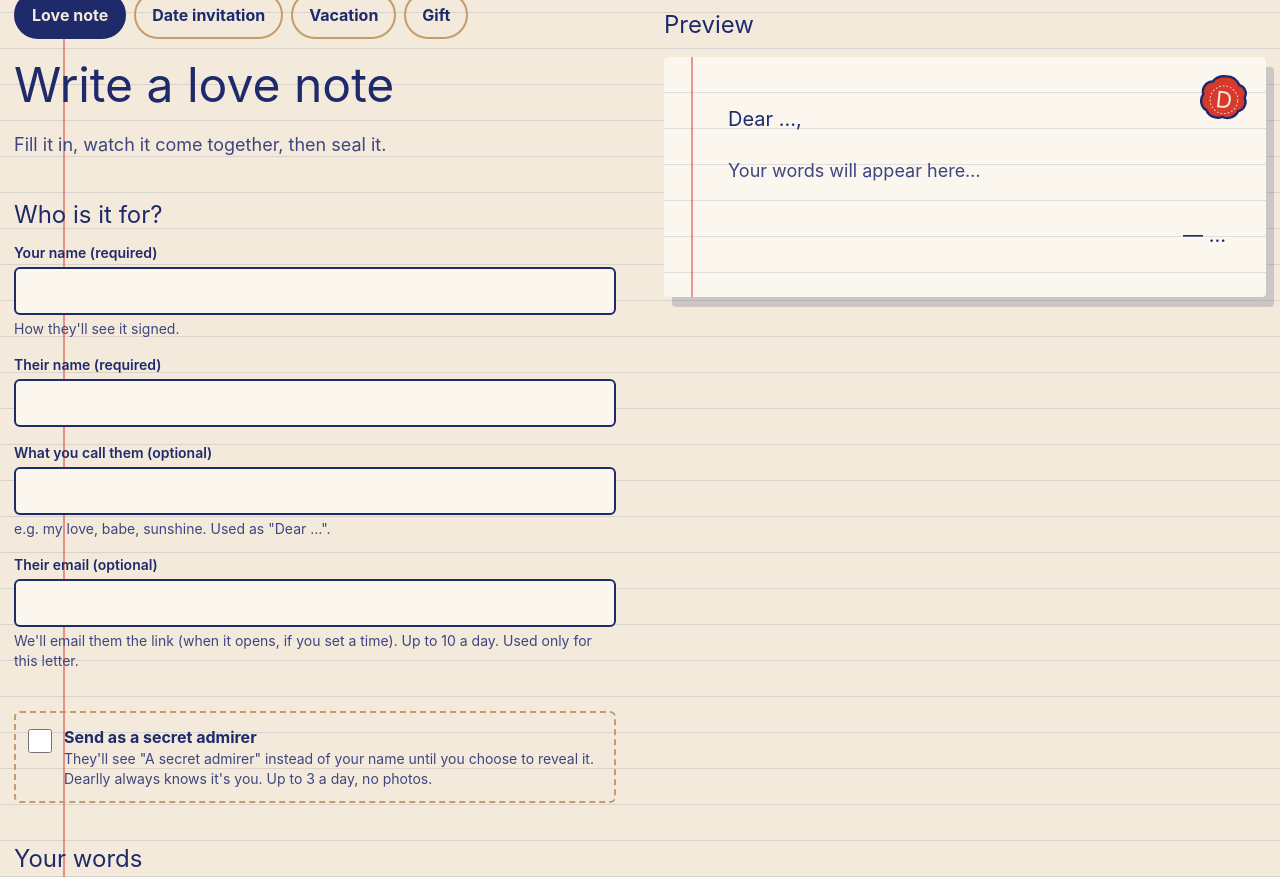
WriteLetter › fills the letter from a quote and shows it in the preview
The image size is (1280, 877).
Type "Ada" into the field labelled "Your name (required) How they'll see it signed." at (315, 291), box [14, 267, 616, 315]
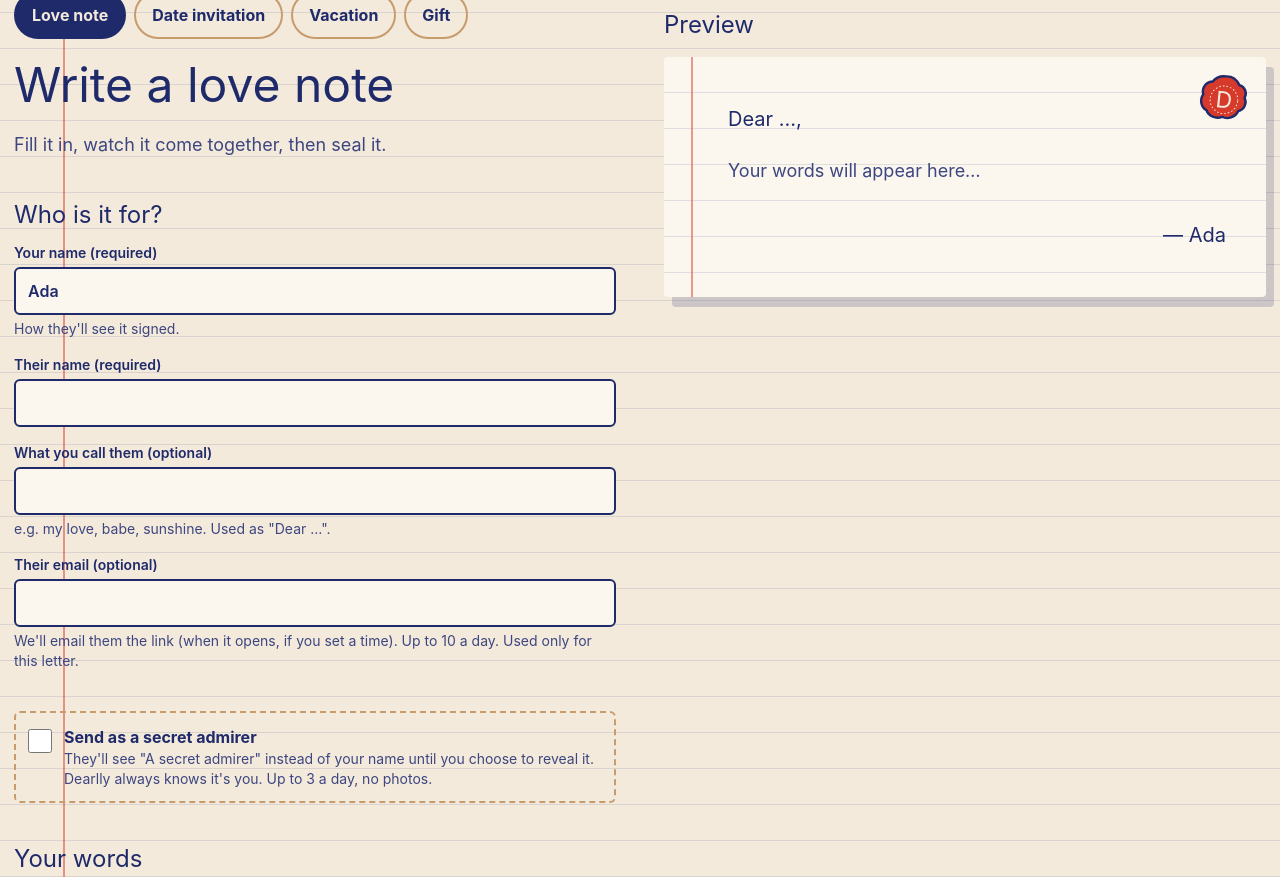
Type "Tolu" into the field labelled "Their name (required)" at (315, 403), box [14, 379, 616, 427]
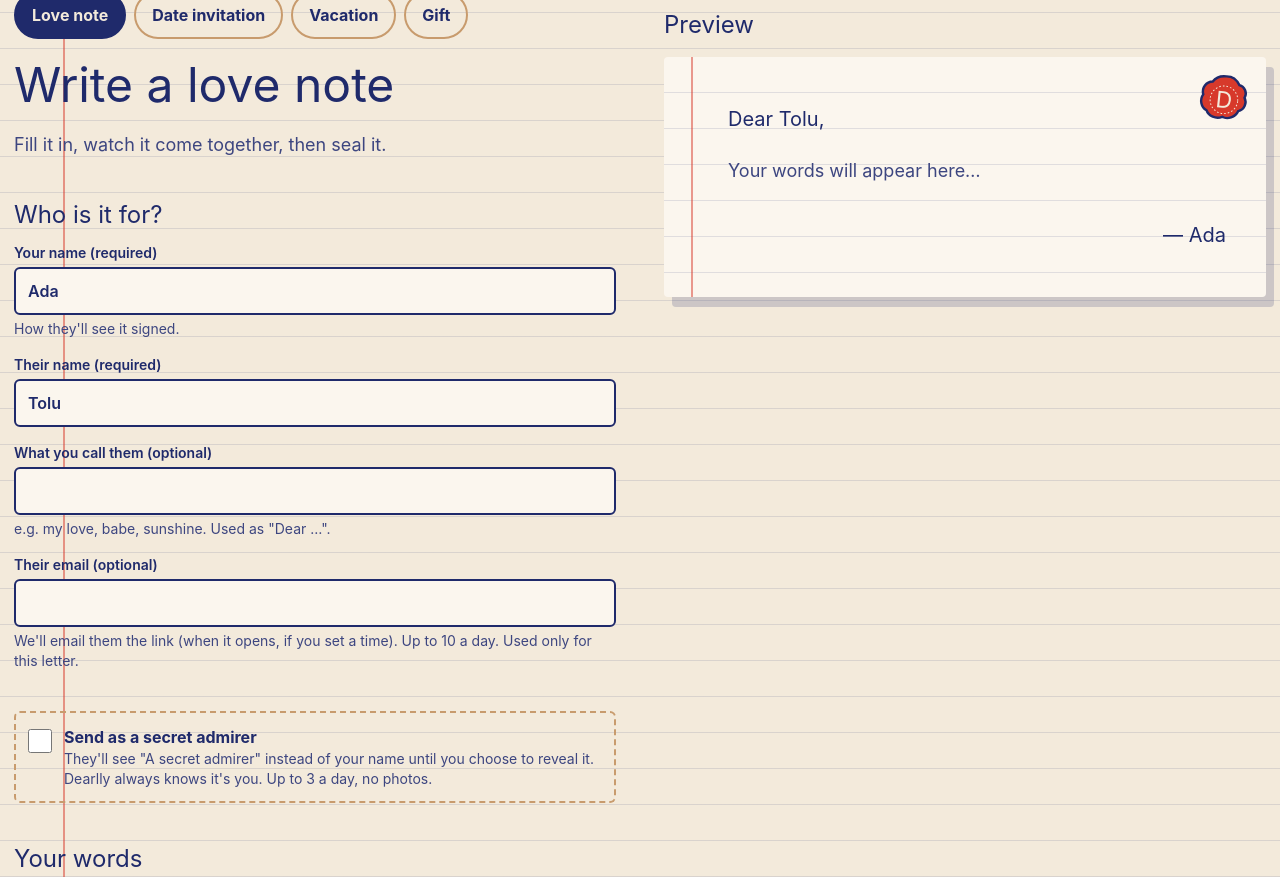
Type "my love" into the field labelled "What you call them" at (315, 491), box [14, 467, 616, 515]
(page scrolled)
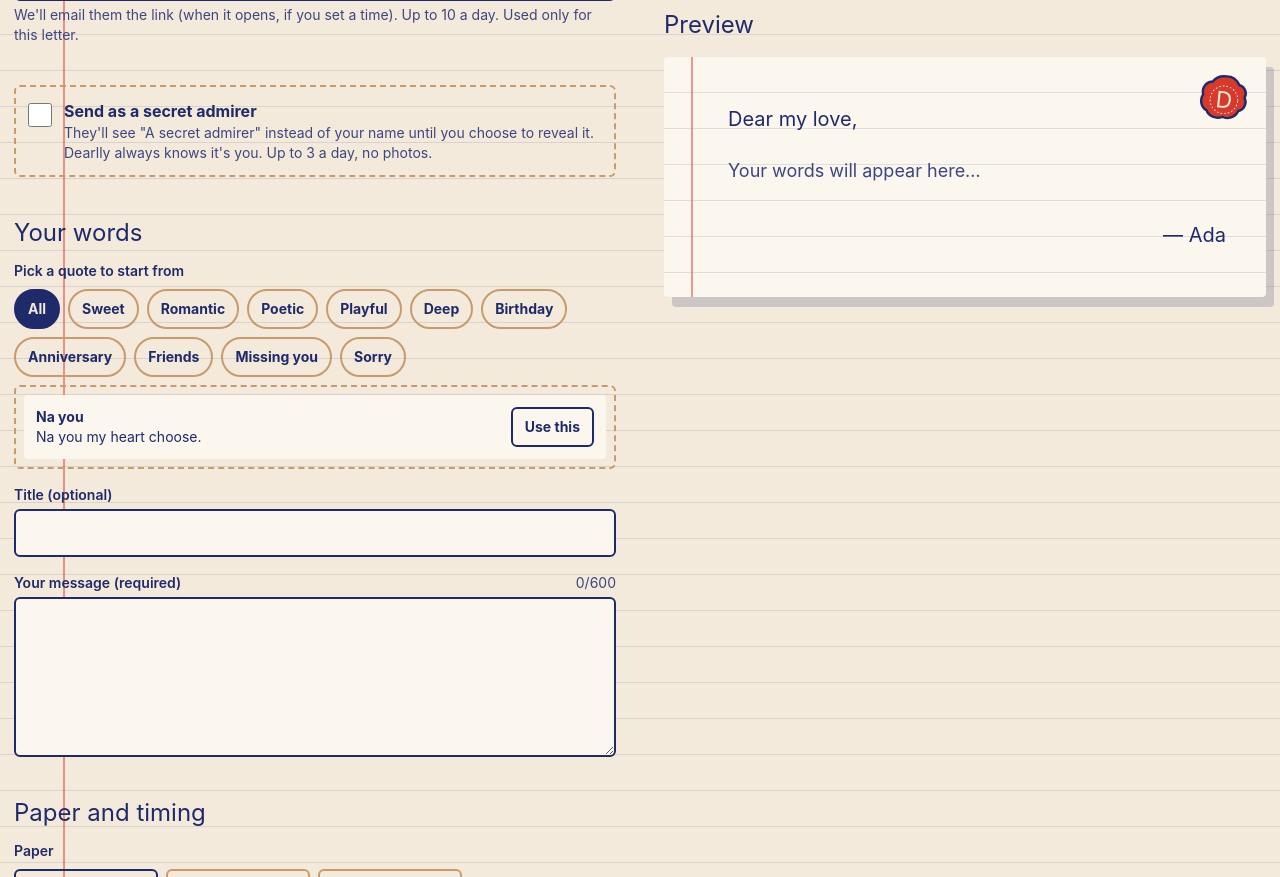
Click the button "Use this" at (552, 427), box [511, 407, 594, 447]
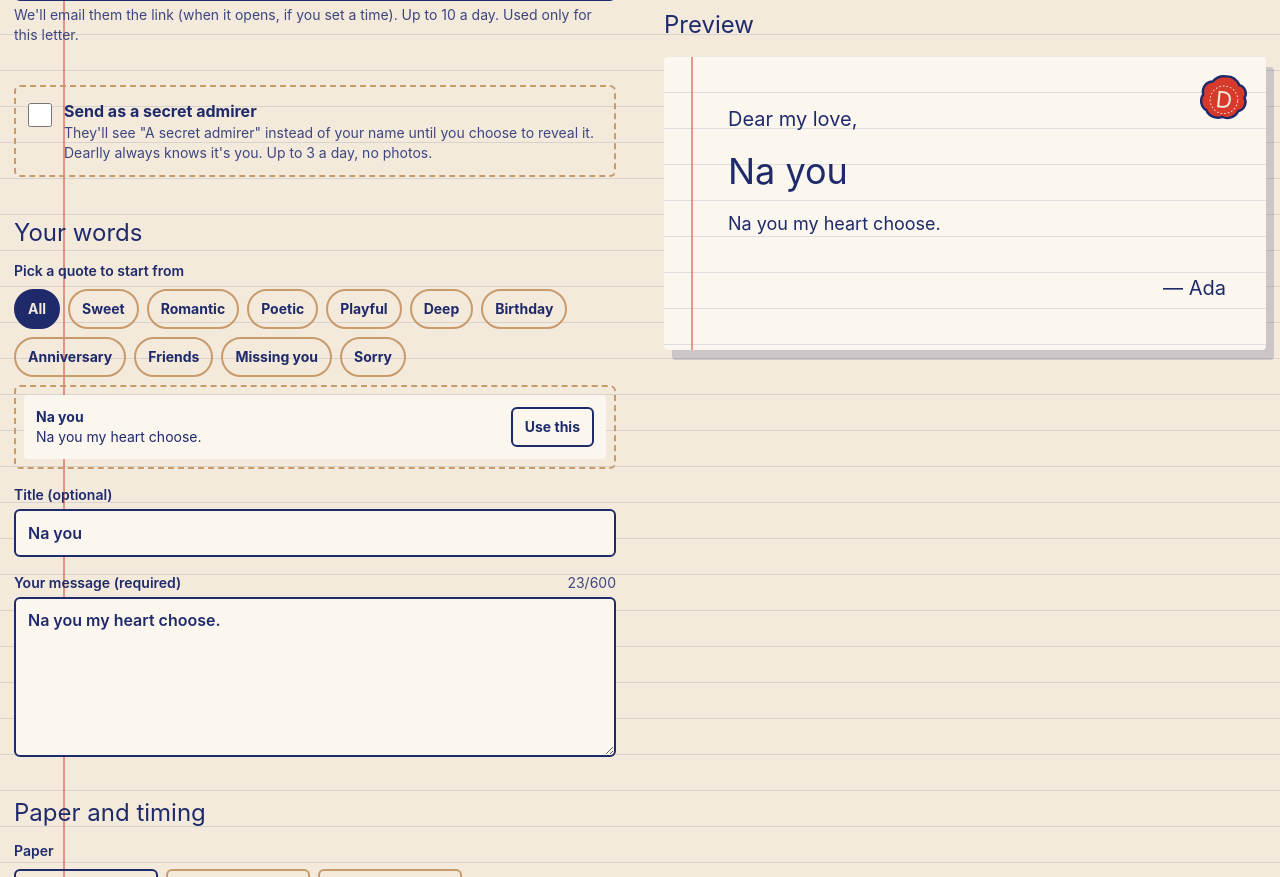
expect the text box labelled "Your message (required) 23/600" holds "Na you my heart choose.": met, box [14, 597, 616, 757]
